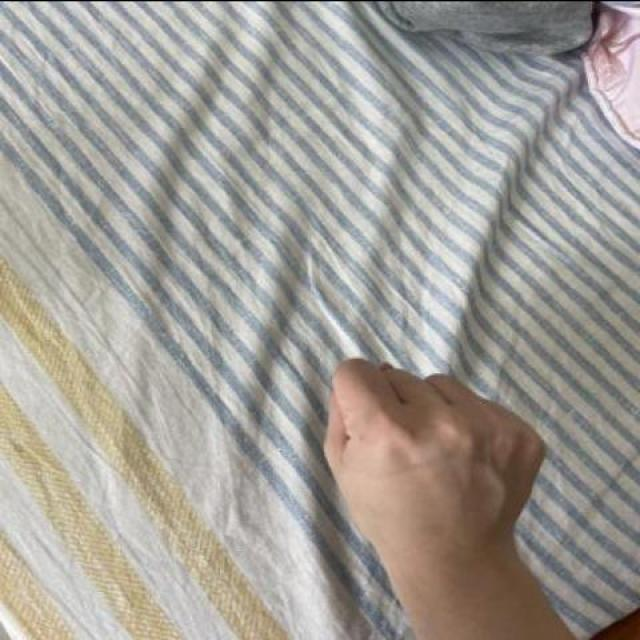fist: (321, 358, 556, 582)
